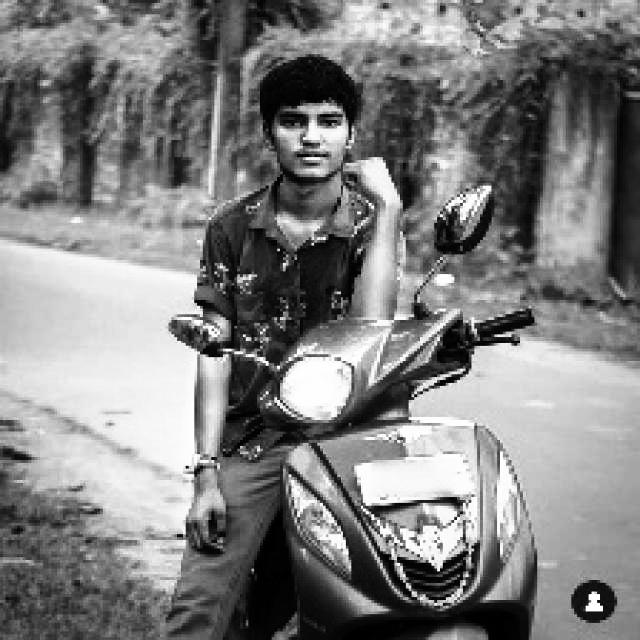Bike: (247, 311, 540, 639)
